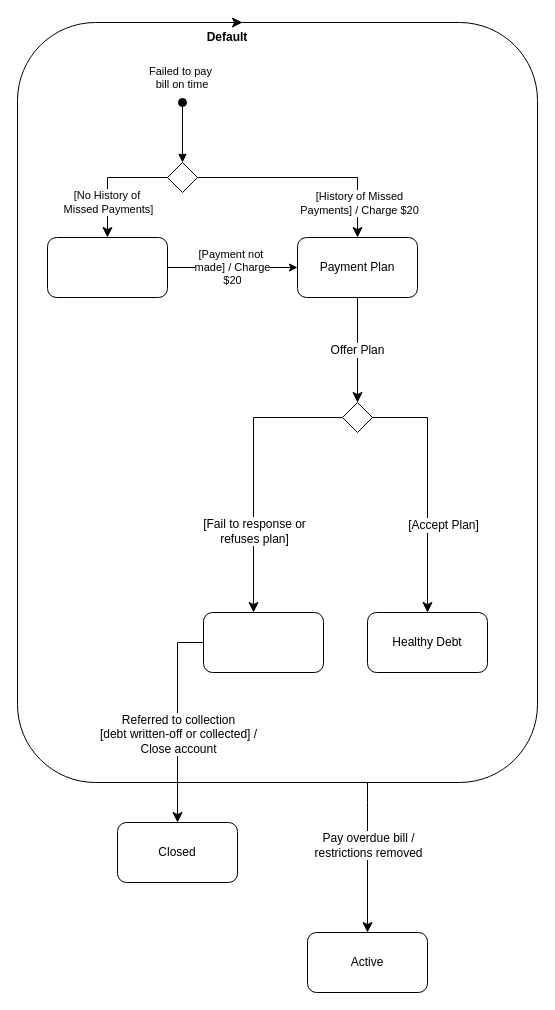
This 555x1010 diagram has some shape labels left out. Here are the shapes that lost their labels. From the top down, the box of each, then its label:
(46, 236, 168, 298): Grace Period
(202, 612, 324, 672): Unhealthy Debt
